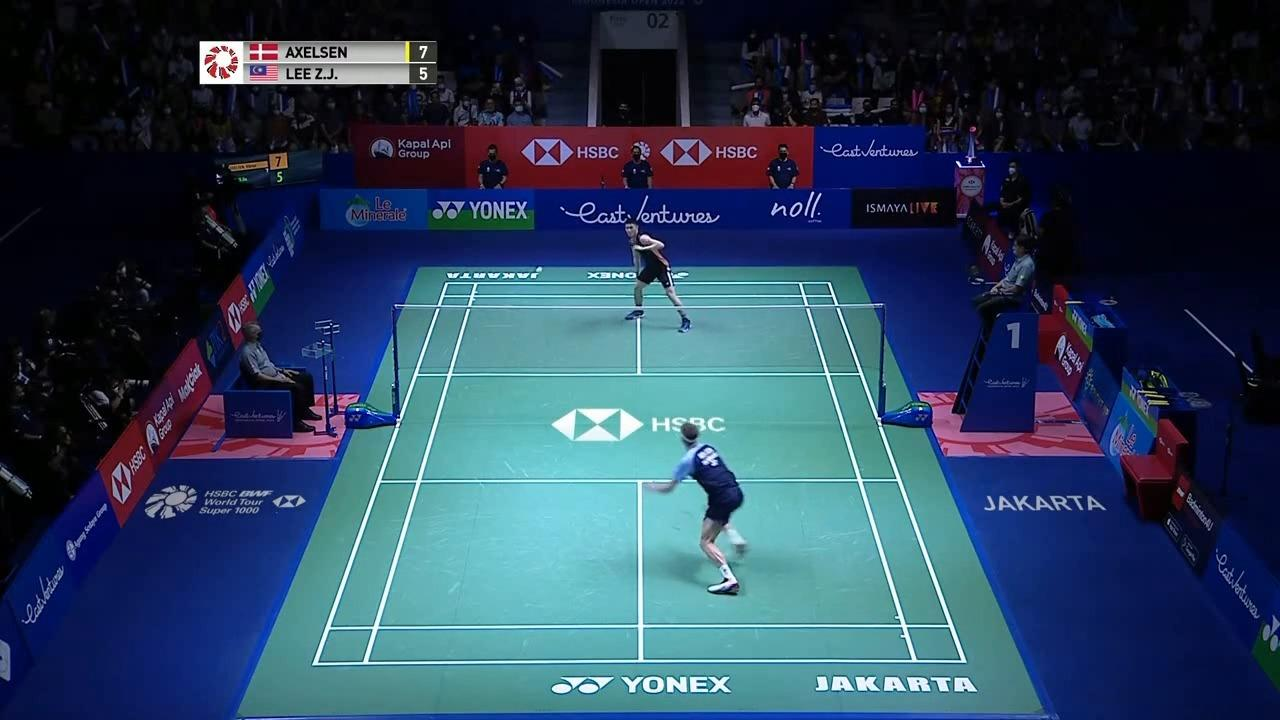shuttle: (536, 265, 545, 275)
